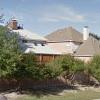Chimney: (5, 14, 23, 36)
